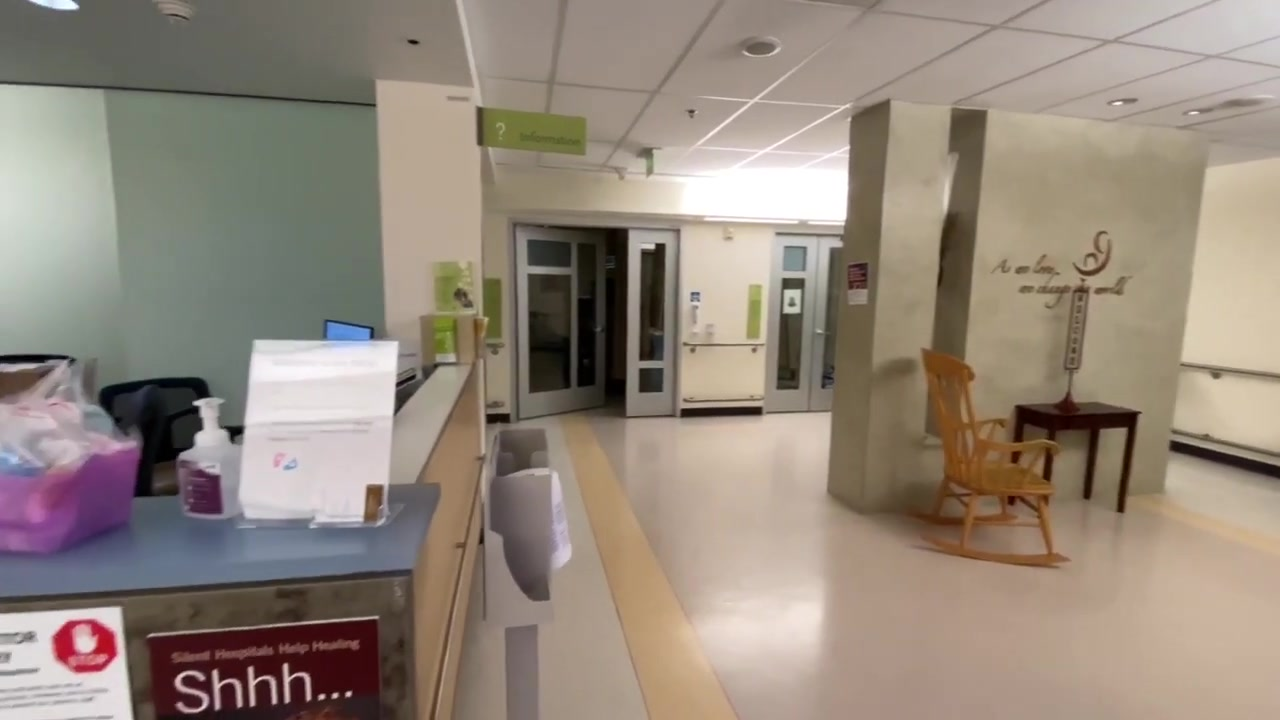chair: (906, 346, 1074, 567), (93, 376, 249, 497)
counter: (1, 518, 420, 720), (395, 371, 478, 709)
countertop: (1, 484, 440, 602), (374, 362, 485, 487)
dispenser: (176, 392, 243, 523), (689, 291, 702, 331)
door_handle: (812, 329, 832, 339), (593, 327, 606, 335)
hallway_assist_bar: (1171, 421, 1280, 460), (1180, 360, 1280, 381), (681, 339, 766, 351), (682, 393, 767, 404), (486, 342, 506, 356), (486, 400, 506, 411)
table: (1007, 401, 1144, 515)
